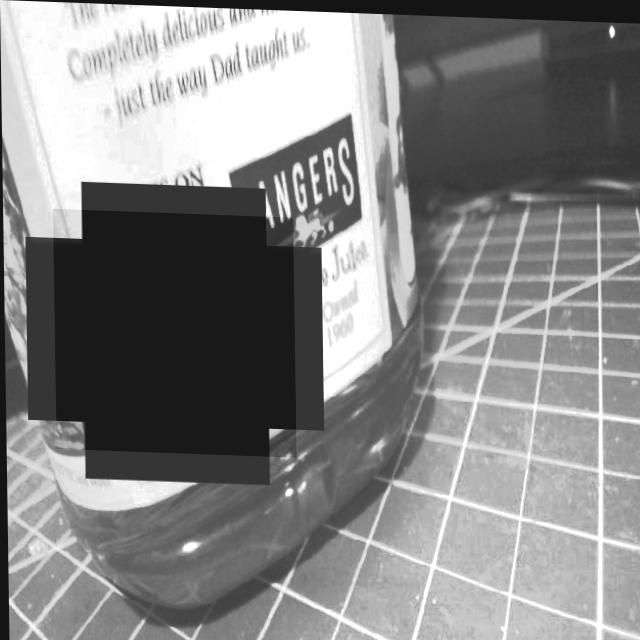qr_code: (53, 208, 296, 455)
